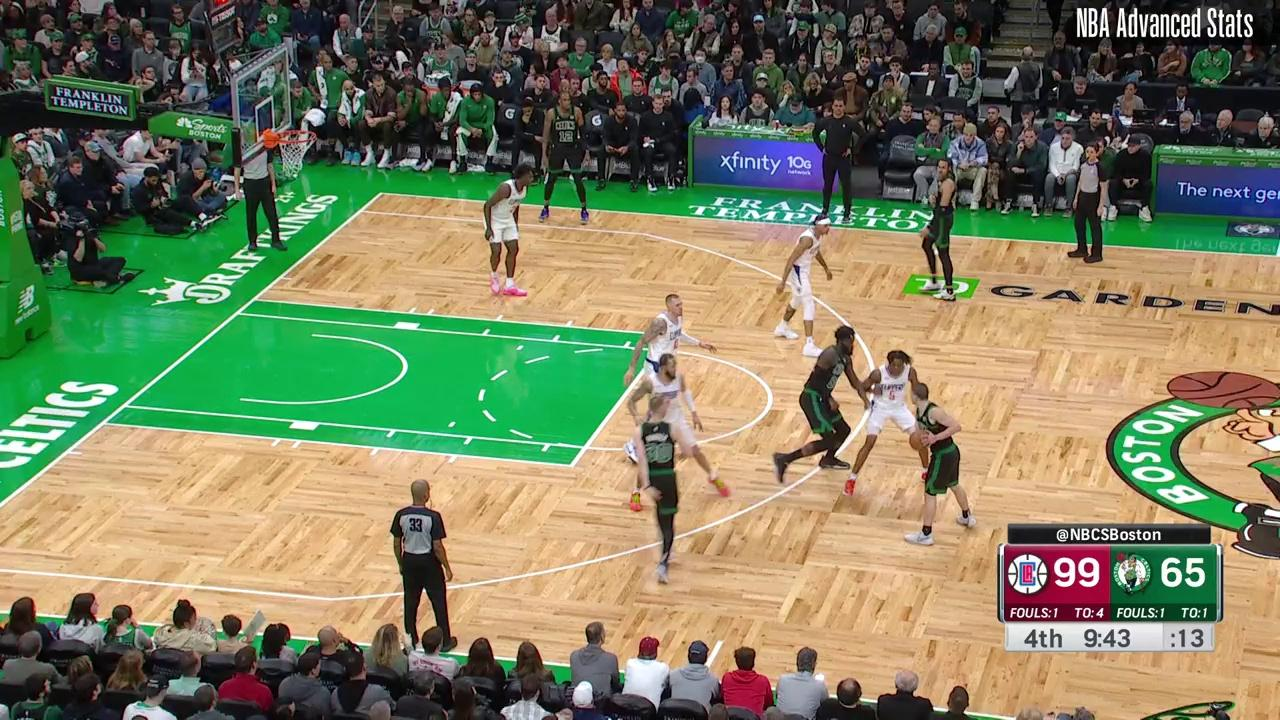3_dx: (356, 206, 366, 216)
b_dx: (375, 189, 385, 198)
free_asx: (565, 460, 578, 471)
free_bdx: (250, 294, 260, 304)
free_bsx: (99, 418, 109, 428)
mid_dx: (932, 250, 940, 258)
mid_sx: (712, 635, 727, 648)
referee: (390, 478, 466, 655), (232, 142, 290, 251), (1070, 143, 1110, 261)
team: (773, 325, 864, 484), (905, 383, 980, 543), (633, 397, 689, 585), (536, 91, 590, 219), (914, 157, 962, 300)
team1: (622, 294, 716, 462), (846, 348, 936, 493), (775, 211, 828, 355), (481, 165, 535, 299)
timer: (1082, 618, 1137, 653)
